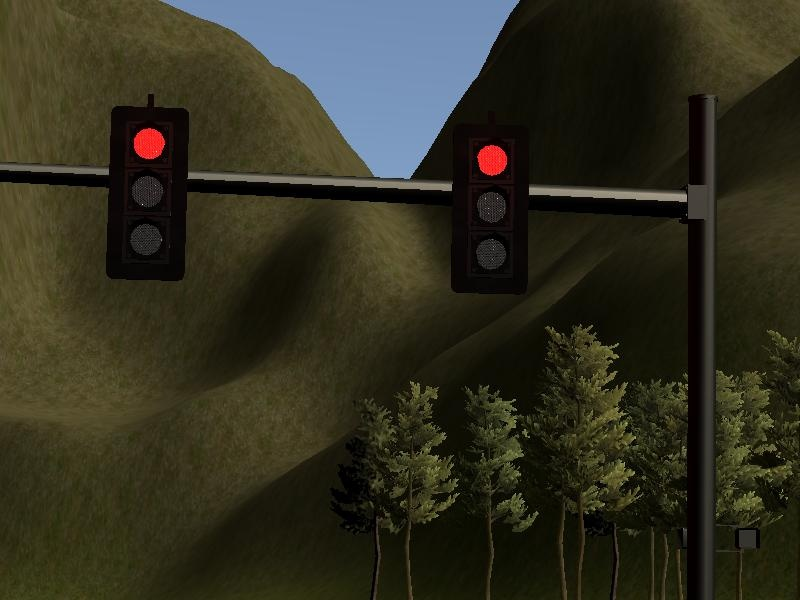red: (448, 113, 536, 300), (101, 106, 192, 285)
